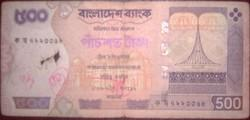500 taka: (4, 5, 245, 118)
